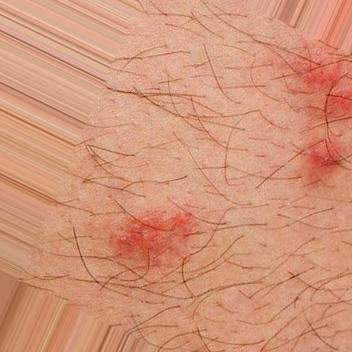Fleas: (111, 210, 198, 268), (291, 50, 351, 131), (287, 129, 348, 188)
